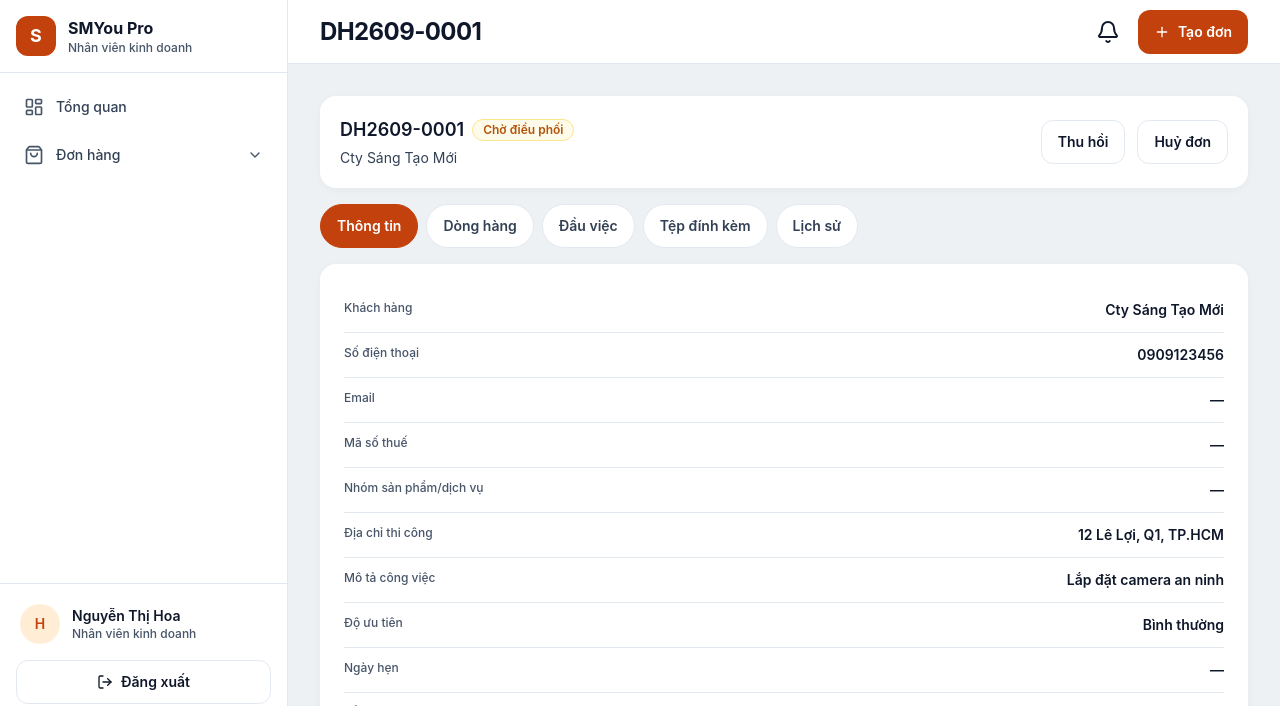
Test: AC-ORD-065 thu hồi › 409 STALE_VERSION → banner đỏ + nút Tải lại (như huỷ đơn, AC-ORD-070)
This screenshot has width=1280, height=706.
Expected: the heading "DH2609-0001" is shown, [320,16,481,48]
Step 1. Click the button "Thu hồi" → (1083, 142), box [1041,120,1125,164]
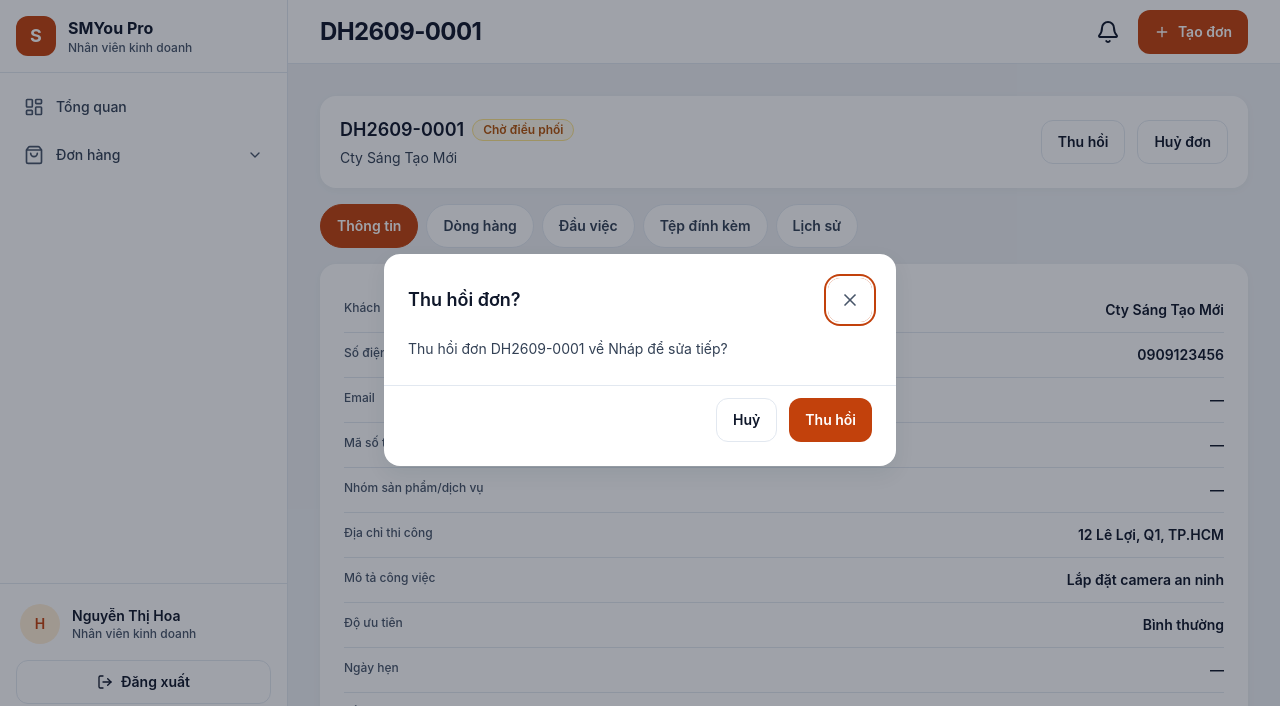
Step 2. Click the button "Thu hồi" → (831, 420), box [789,398,872,442]
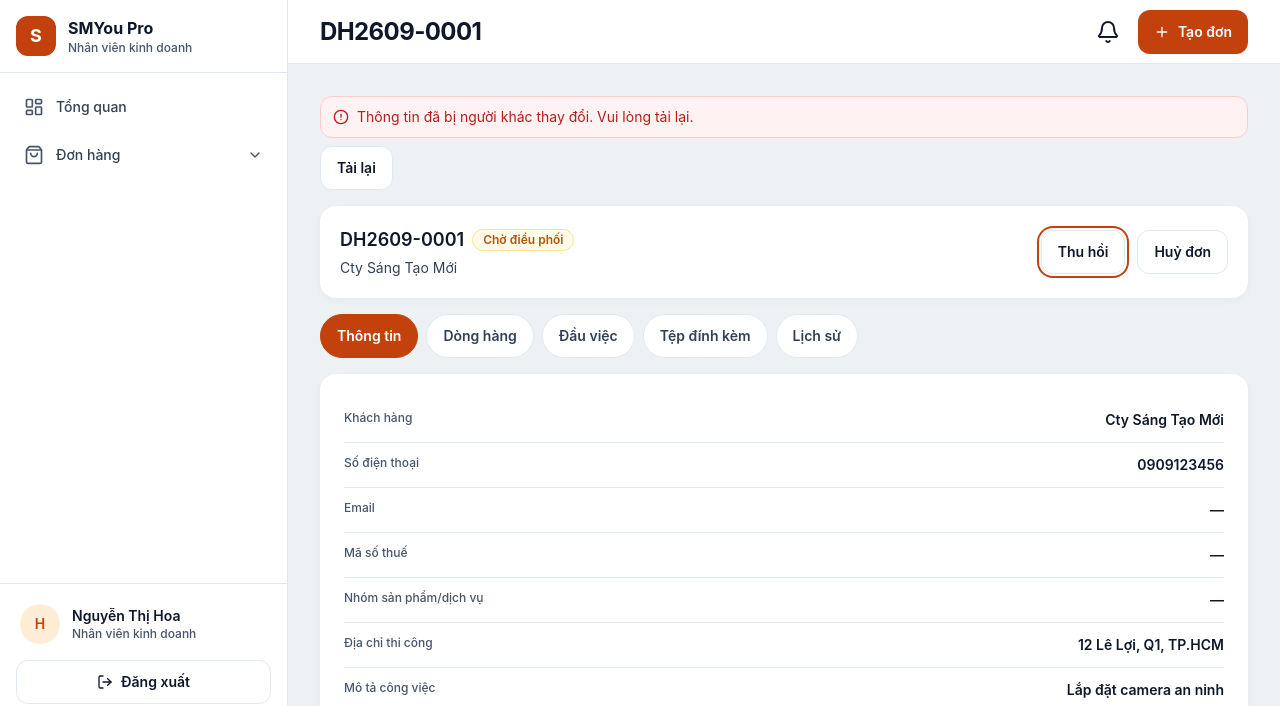
Now the text "Thông tin đã bị người khác thay đổi. Vui lòng tải lại." is shown, box [357,107,694,127]
Now the heading "Thu hồi đơn?" is gone
Step 3. Click the button "Tải lại" → (356, 168), box [320,146,393,190]
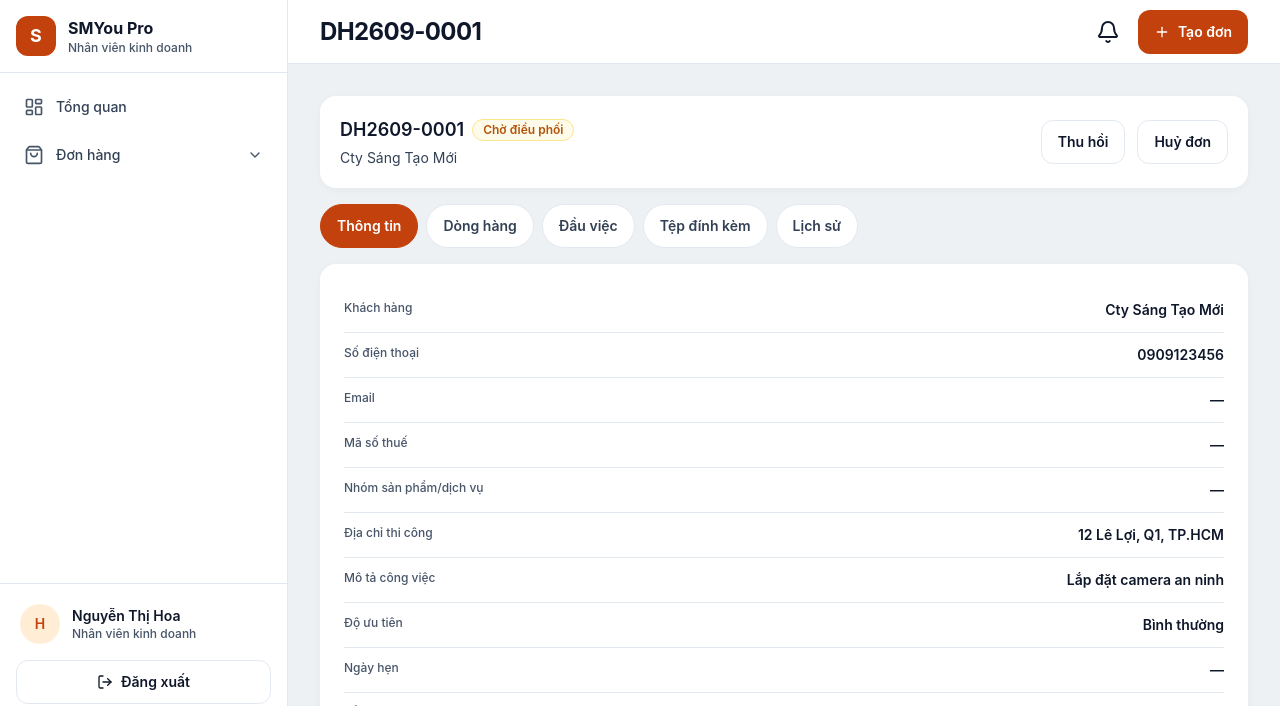
Now the text "Thông tin đã bị người khác thay đổi. Vui lòng tải lại." is gone
